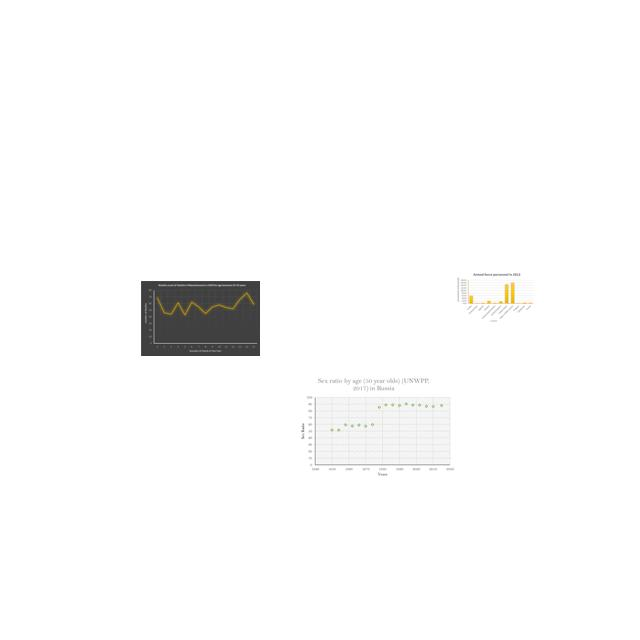Graph: (298, 376, 456, 480), (141, 281, 260, 356), (456, 272, 535, 324)
